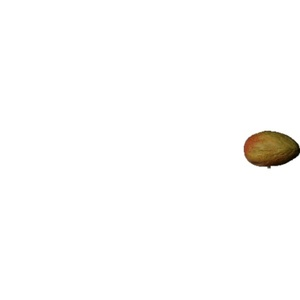mamão: (242, 124, 297, 168)
